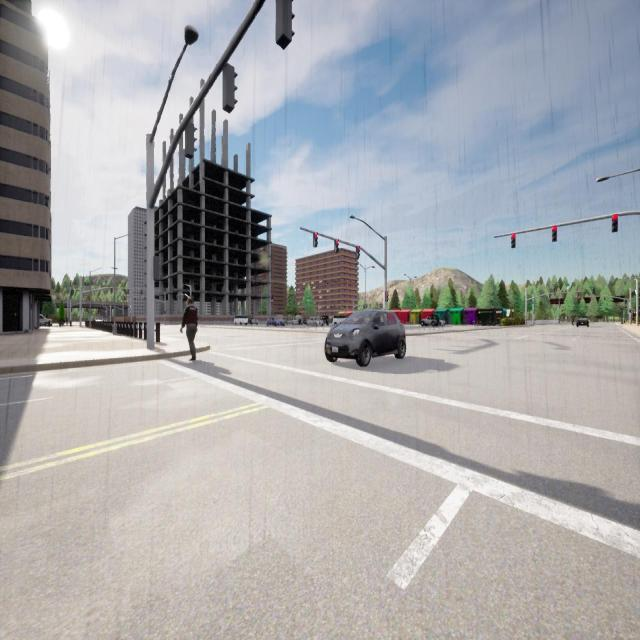Pedestrian: (180, 298, 197, 360)
Traffic_Signs: (565, 317, 567, 319)
Vehicle: (325, 309, 406, 366), (333, 315, 349, 326), (421, 316, 438, 326), (308, 318, 323, 328), (40, 314, 52, 326), (266, 318, 284, 326), (235, 315, 248, 325), (577, 317, 589, 327), (320, 316, 329, 326), (291, 318, 303, 325), (250, 317, 258, 325)
traffic_light: (276, 0, 296, 50), (223, 64, 237, 113), (185, 123, 197, 159), (154, 256, 160, 280), (612, 214, 618, 232), (552, 226, 557, 241), (313, 232, 317, 247), (512, 234, 516, 248), (356, 247, 360, 260), (335, 240, 338, 252), (386, 292, 388, 302), (134, 296, 136, 300), (164, 310, 166, 314), (124, 296, 126, 299), (578, 296, 580, 299), (604, 297, 606, 300), (590, 297, 592, 299), (629, 310, 631, 312)
